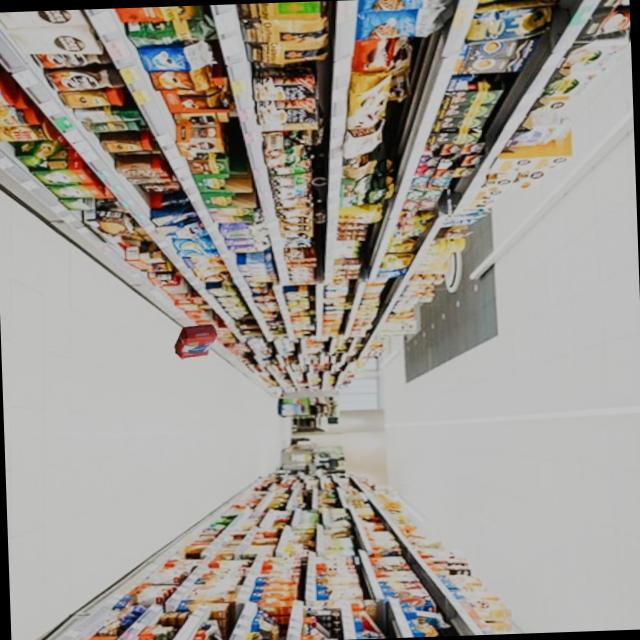mate bag: (176, 321, 223, 357)
